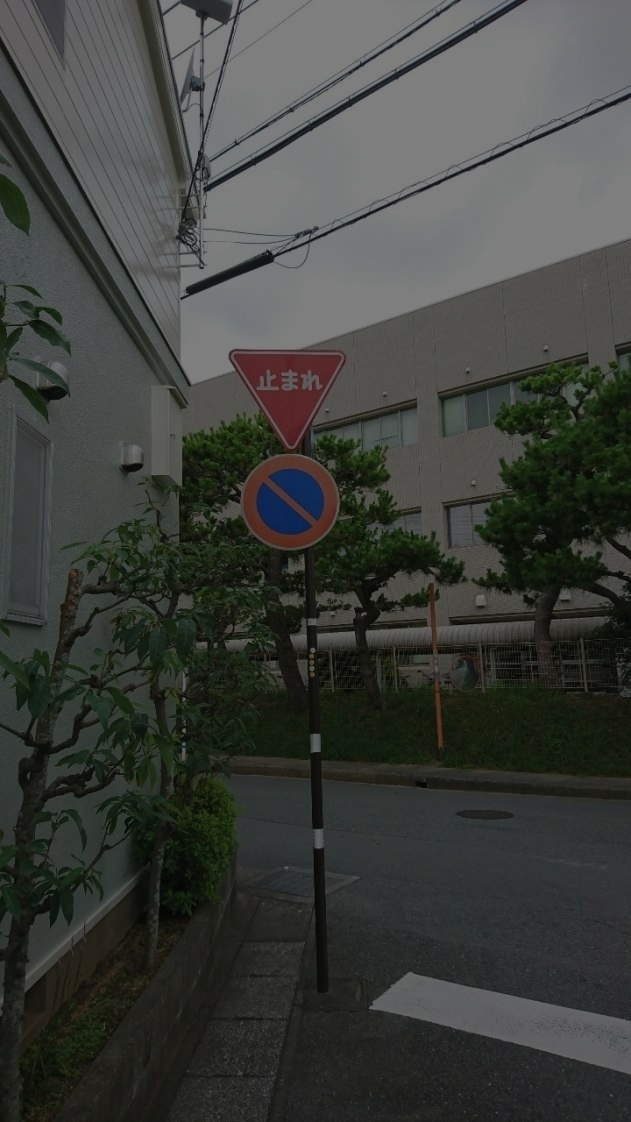Prohibition_sign: (229, 447, 347, 575)
Regulatory_sign_triangle: (229, 346, 354, 459)
